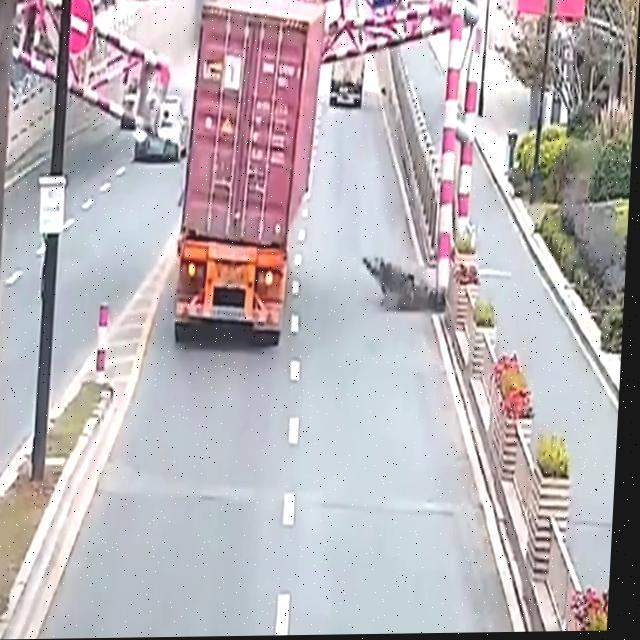single accident: (180, 11, 343, 331)
